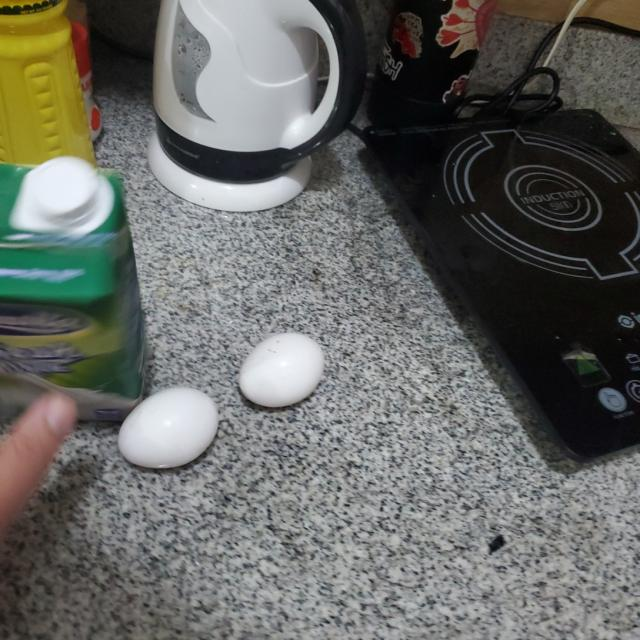egg: (116, 385, 216, 471), (236, 332, 328, 407)
milk: (0, 154, 149, 415)
